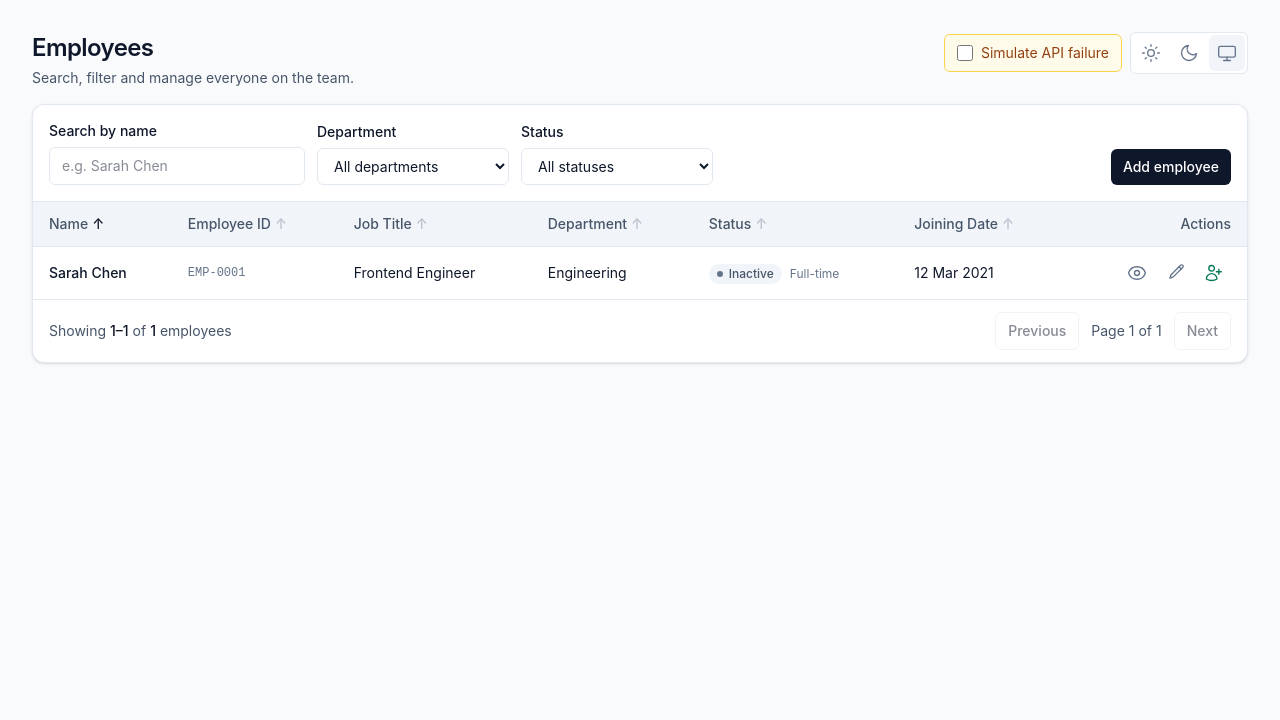
Test: reactivating an employee › can also be reached from the details dialog
The width and height of the screenshot is (1280, 720).
Expected: the table is shown, 33,202 -> 1247,299
Click the button named "View details for Sarah Chen" at (1137, 273), box 1119,255 -> 1155,291
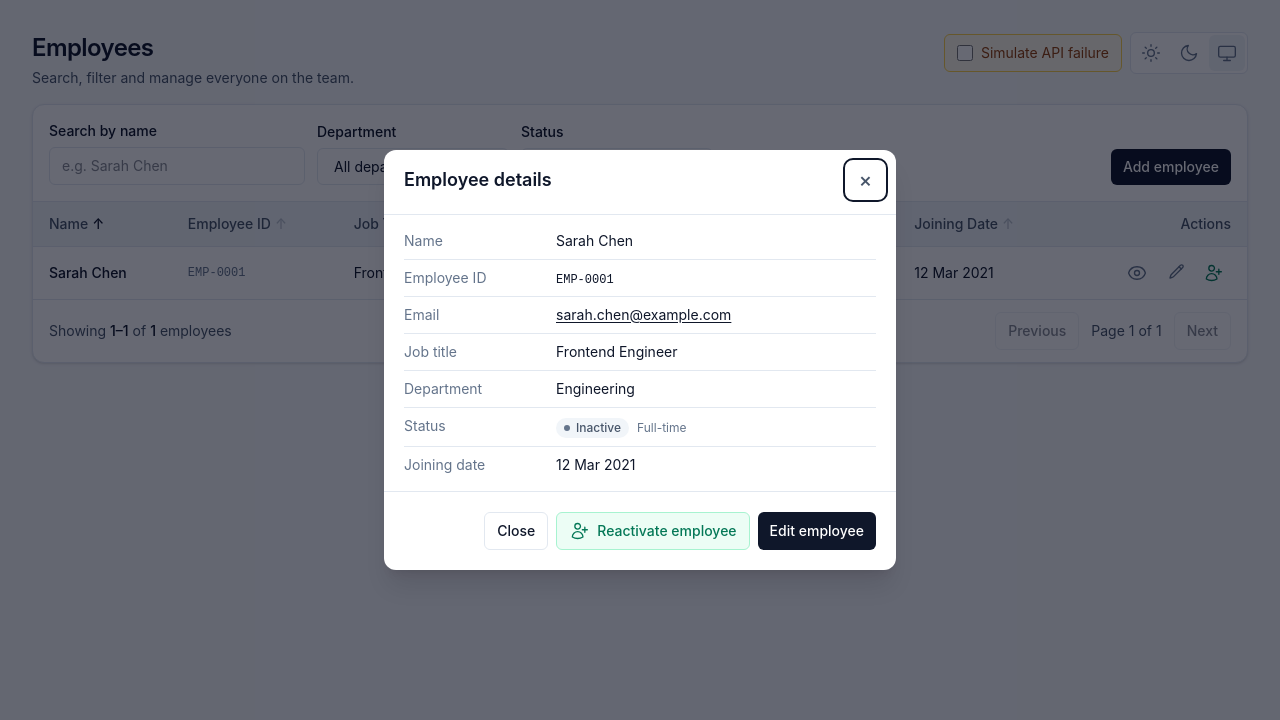
Click the button "Reactivate employee" at (653, 531), box 556,512 -> 750,550
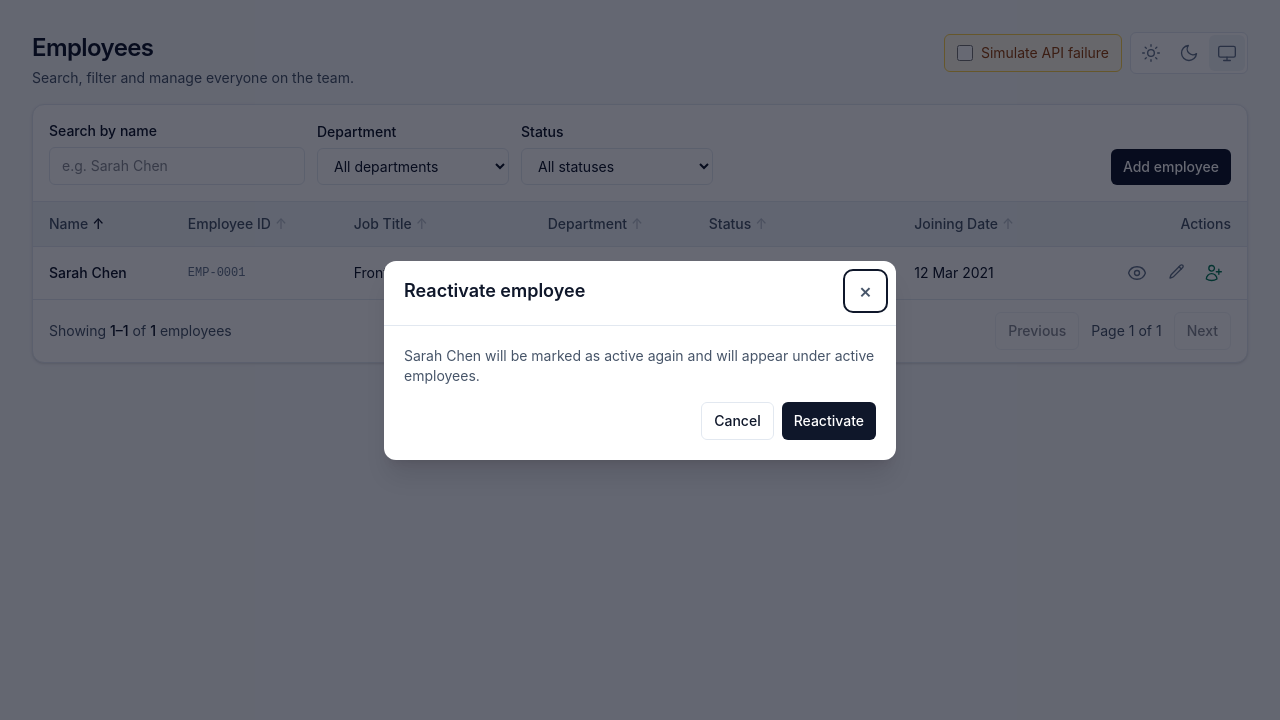
Click the button "Reactivate" at (829, 420), box 782,402 -> 876,440
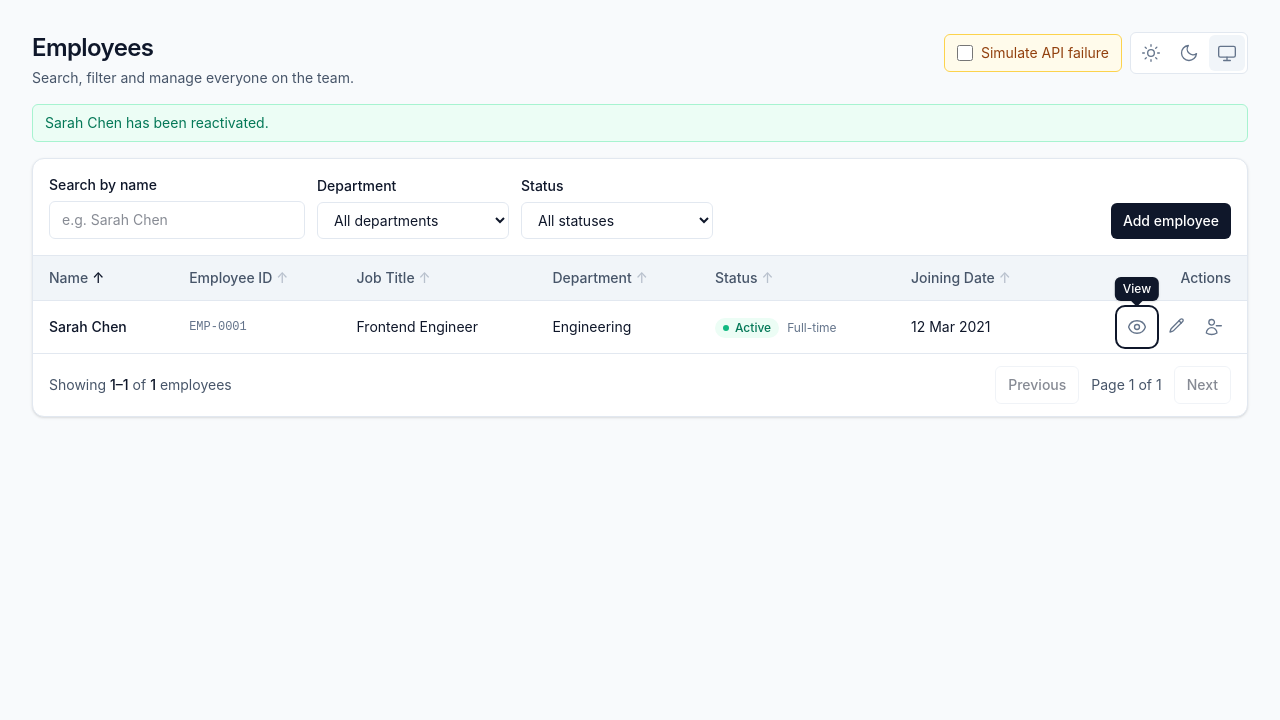
Expected: the text "Active" is shown, 715,318 -> 779,338
Expected: the message reads "Sarah Chen has been reactivated.", 45,114 -> 269,131
